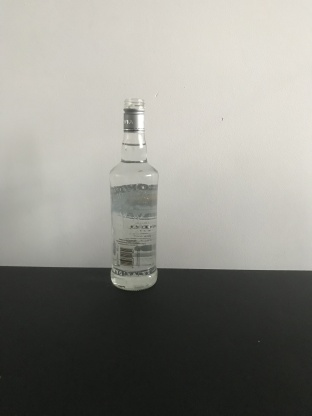nakretka: (121, 96, 146, 134)
